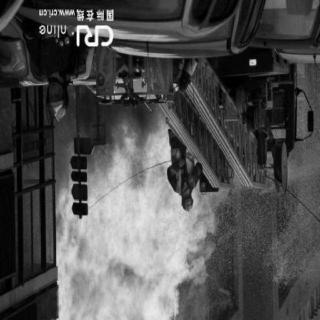Fire: (57, 94, 223, 317)
